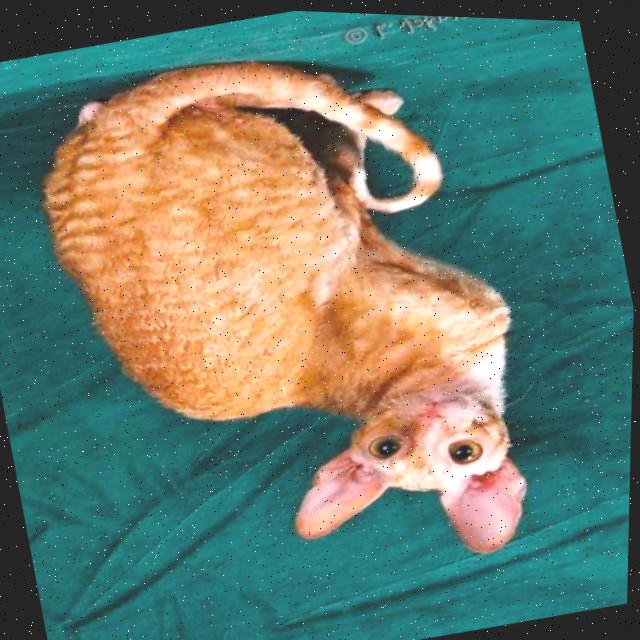Cornish Rex: (1, 0, 582, 635)
